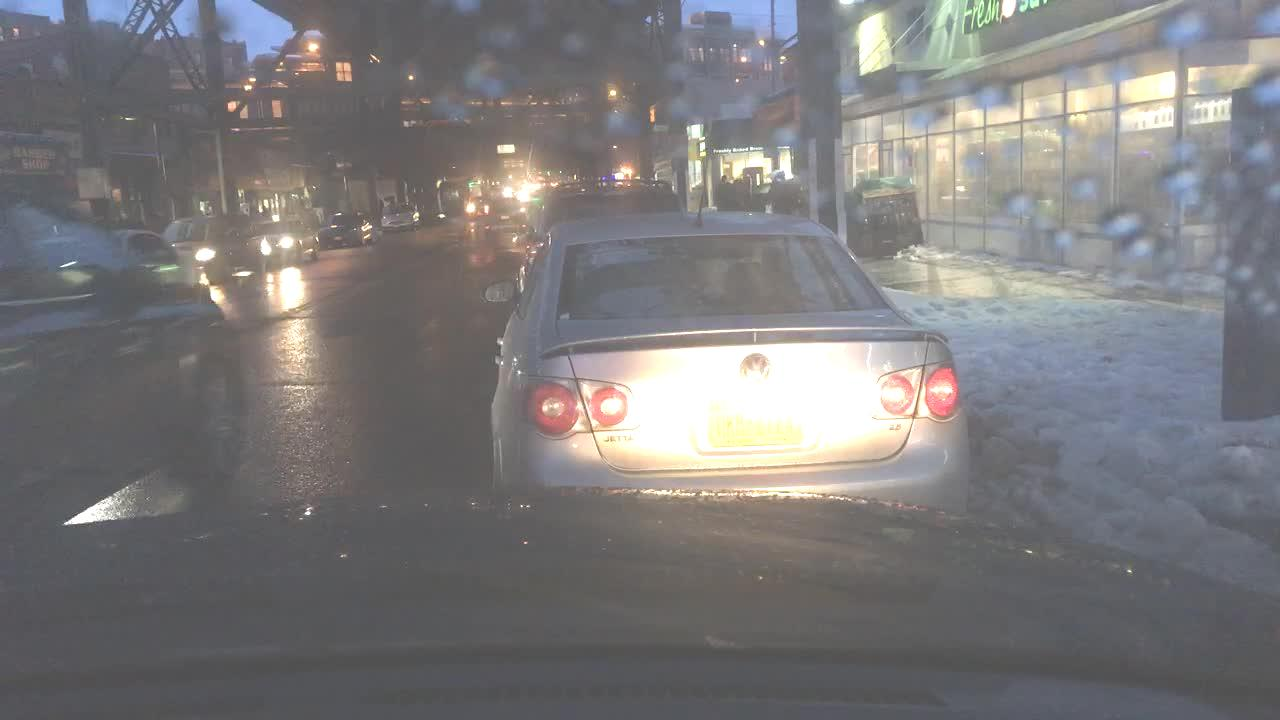Volkswagen: (729, 347, 780, 390)
